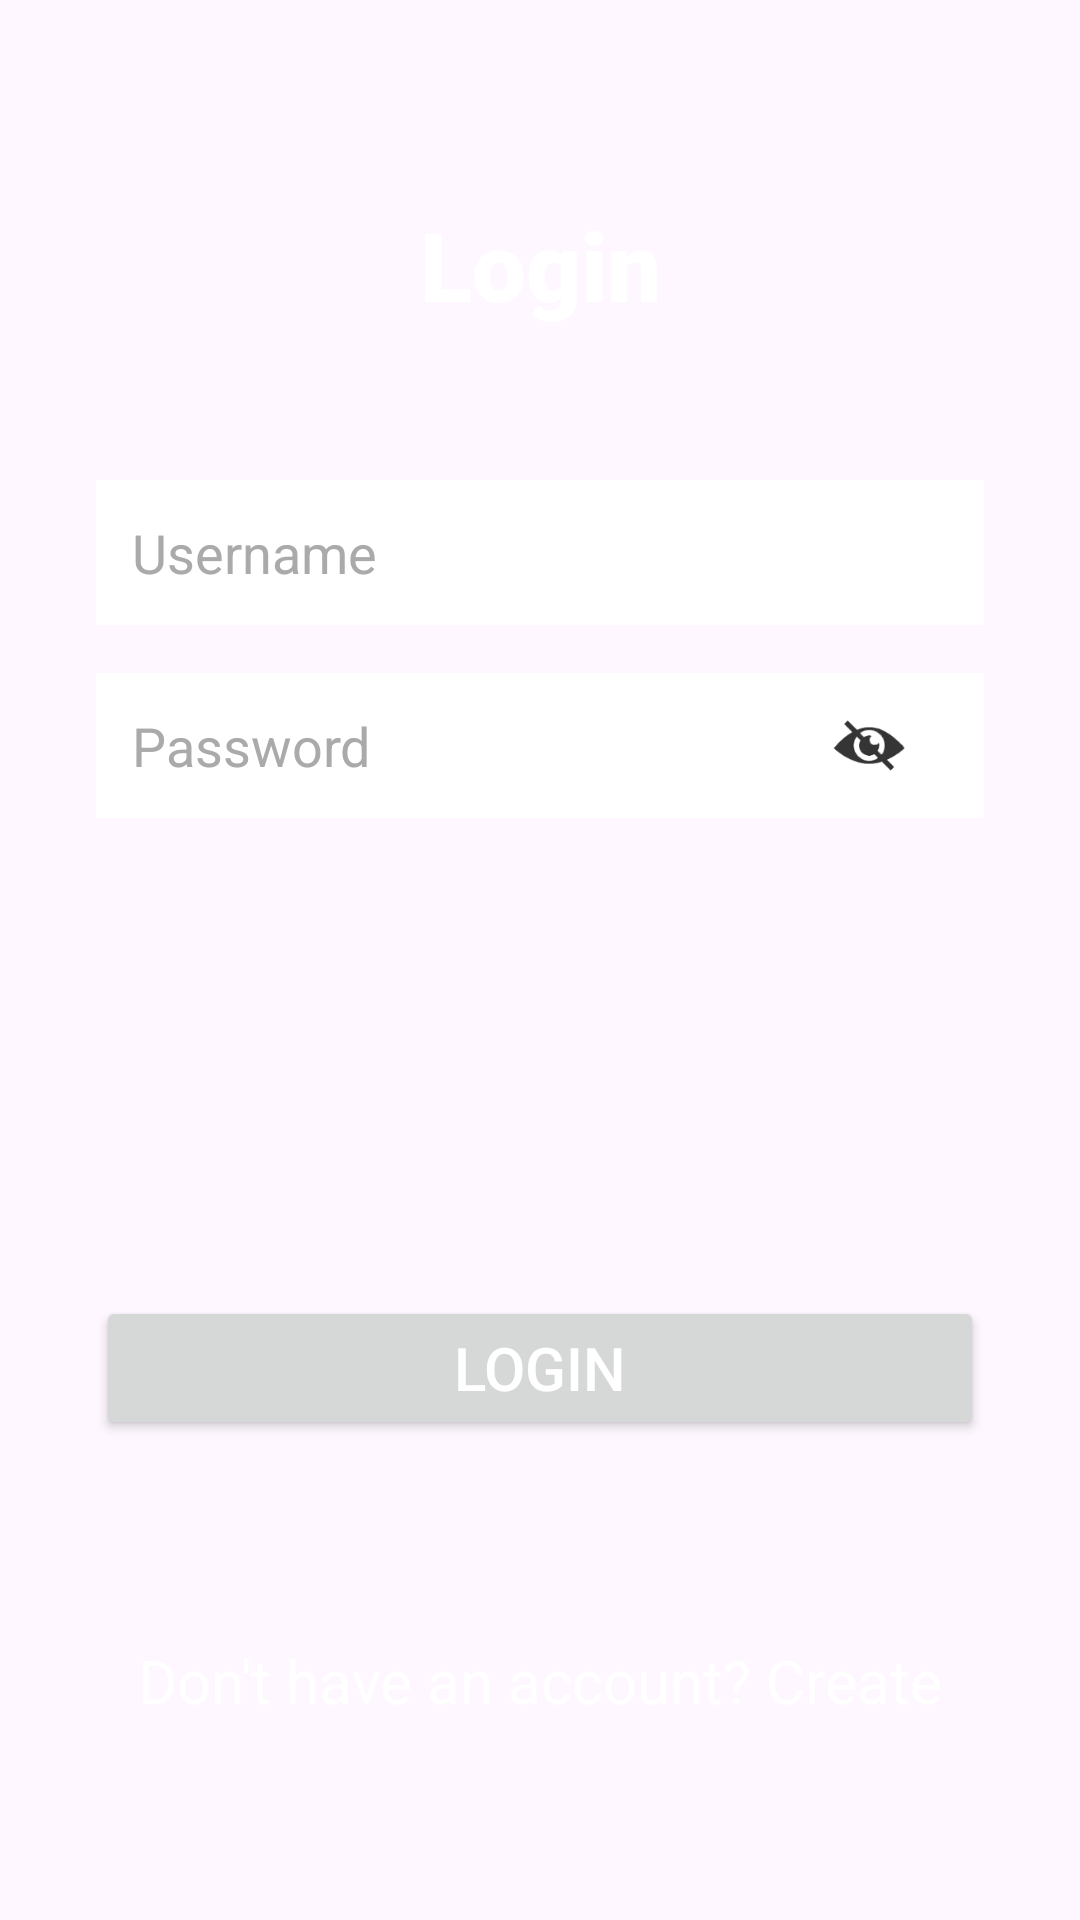

Named icons in this screenshot (1080px x 1920px) and their centers, point (x, y):
eye closed: point (869, 745)
